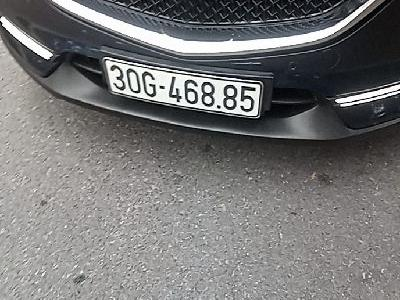lisence: (103, 57, 264, 120)
